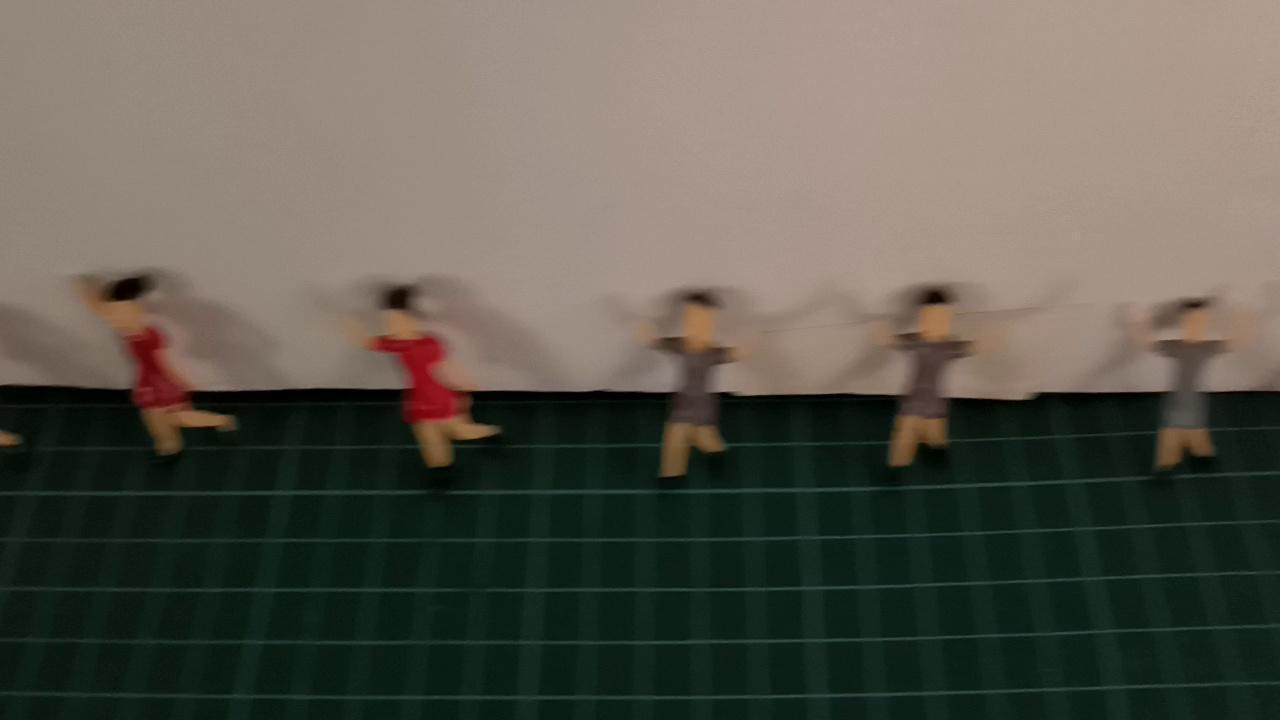human: (332, 270, 512, 503), (64, 257, 246, 487), (1114, 282, 1252, 487), (628, 280, 753, 493), (867, 278, 993, 485)
